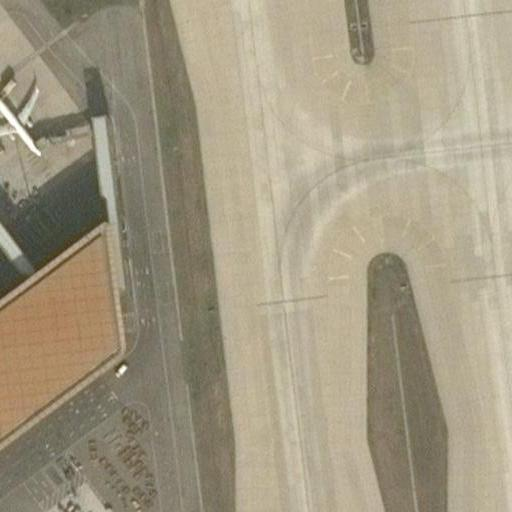Aircraft: (0, 65, 53, 163)
